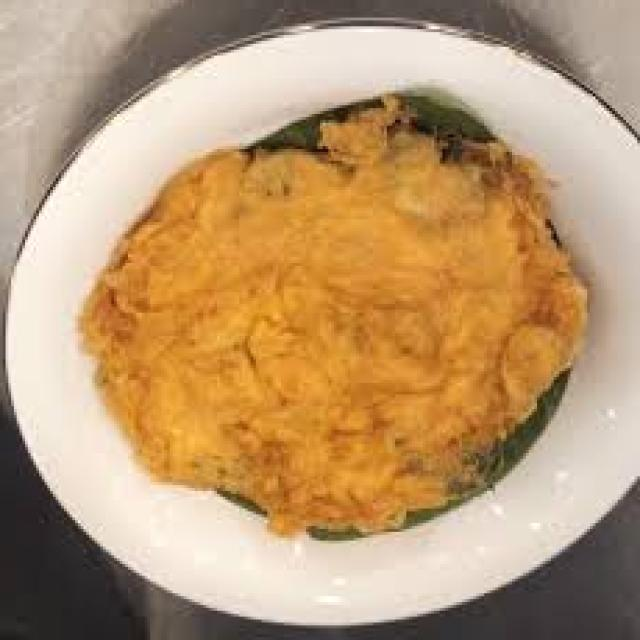telur dadar: (75, 91, 595, 546)
